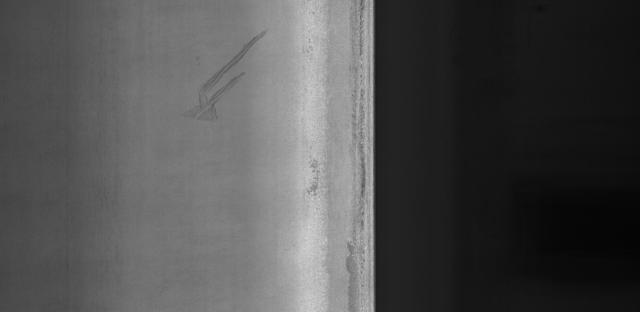water_spot: (176, 20, 276, 132)
